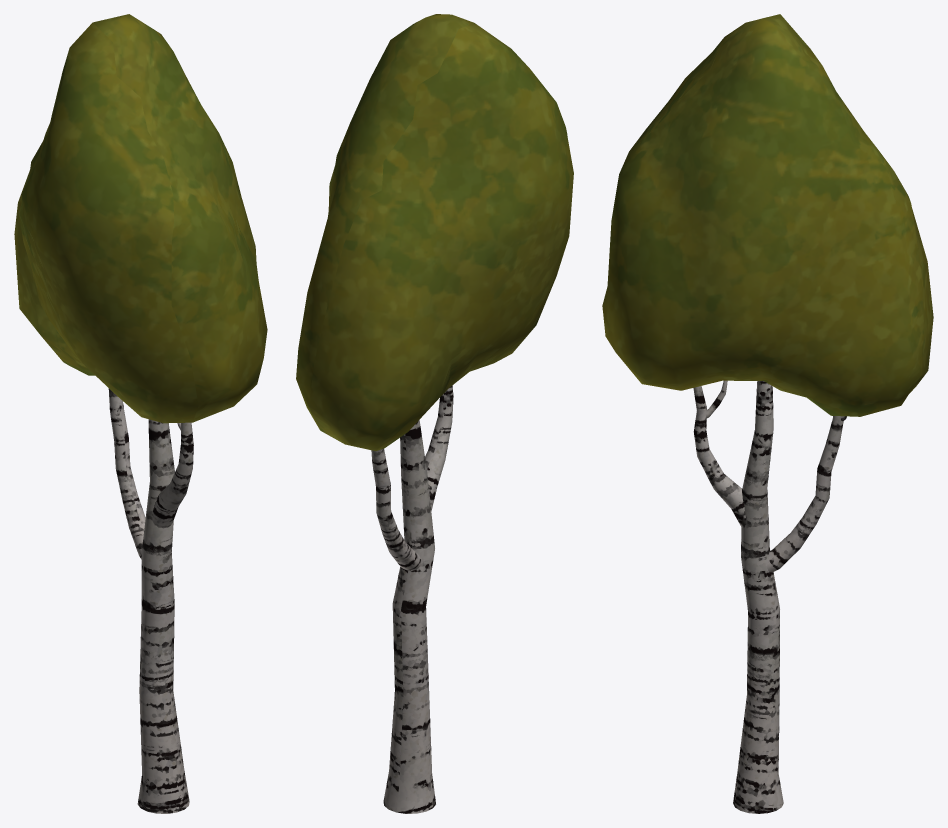
The model's file is Sm_BirchTree2.fbx.
3 renders of one model, left to right at view 1: azimuth 30°, elevation 25°; view 2: azimuth 150°, elevation 25°; view 3: azimuth 270°, elevation 25°, orthographic. The views are drawn at different scales.
Visible parts, largest first — view 1: Sm_BirchTree2; view 2: Sm_BirchTree2; view 3: Sm_BirchTree2.
Boxes of the visible parts, x1,y1,x2,y2 form: Sm_BirchTree2: (14,14,267,813); Sm_BirchTree2: (296,14,573,813); Sm_BirchTree2: (602,14,933,813).
Bounding box in the file's own units: 183 × 661 × 260.
